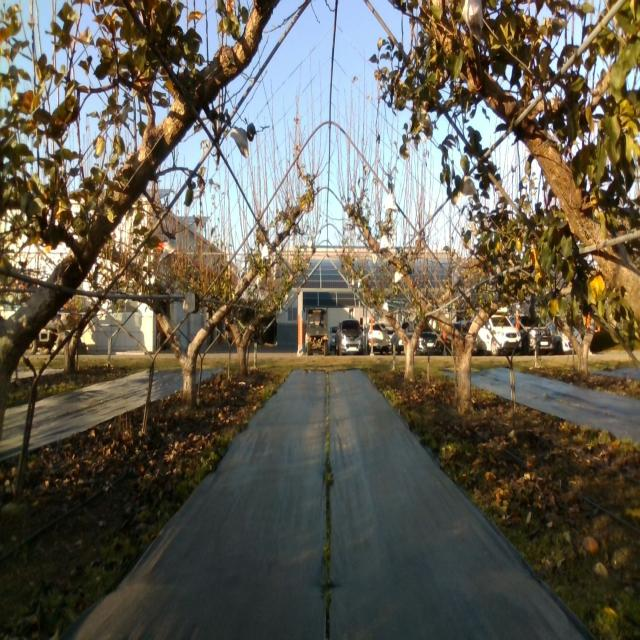pearbags: (462, 0, 482, 44), (230, 128, 250, 157), (460, 174, 479, 197), (159, 238, 176, 261)
